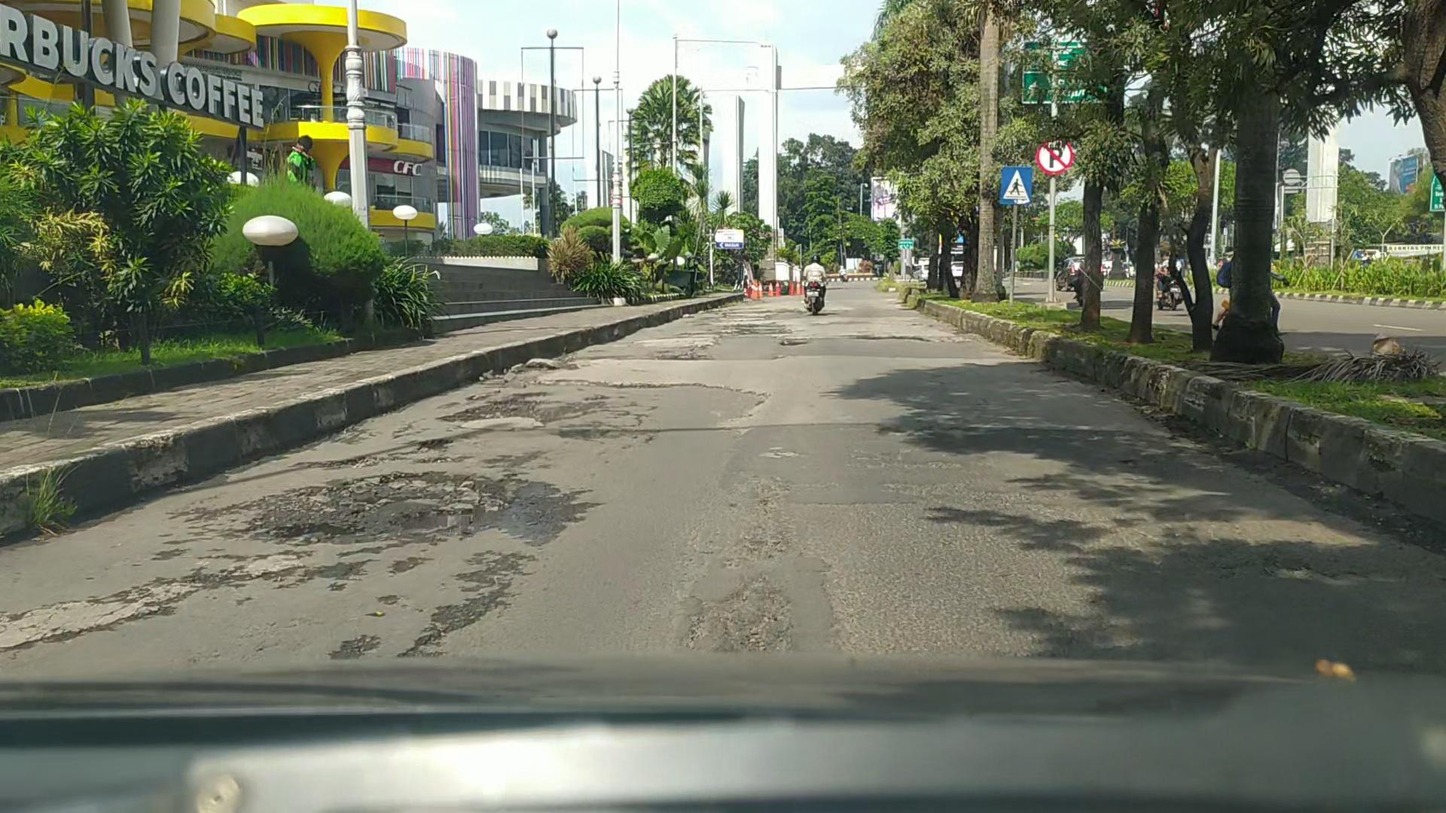pothole: (252, 470, 507, 544), (437, 391, 608, 424), (292, 455, 403, 470), (855, 333, 931, 343), (417, 438, 455, 453), (654, 351, 711, 360), (778, 340, 810, 347)
